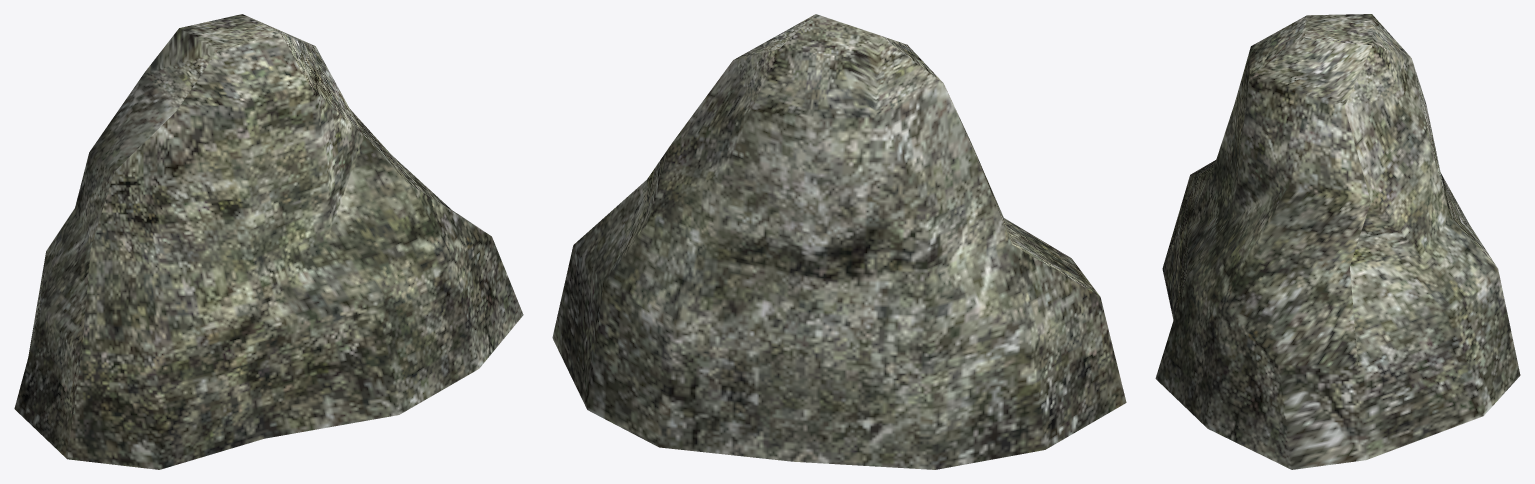
The model's file is general_obj_stone10.fbx.
3 views of the same model, side by side, from view 1: azimuth 30°, elevation 25°; view 2: azimuth 150°, elevation 25°; view 3: azimuth 270°, elevation 25° (orthographic). The views are drawn at different scales.
Parts seen in each view (by area): view 1: Sphere02; view 2: Sphere02; view 3: Sphere02.
Boxes of the visible parts, bbox=[...] form: Sphere02: bbox=[14, 14, 523, 469]; Sphere02: bbox=[552, 14, 1126, 469]; Sphere02: bbox=[1155, 14, 1520, 469].
Size of the model in its own units: 3.64 by 2.38 by 2.46.
